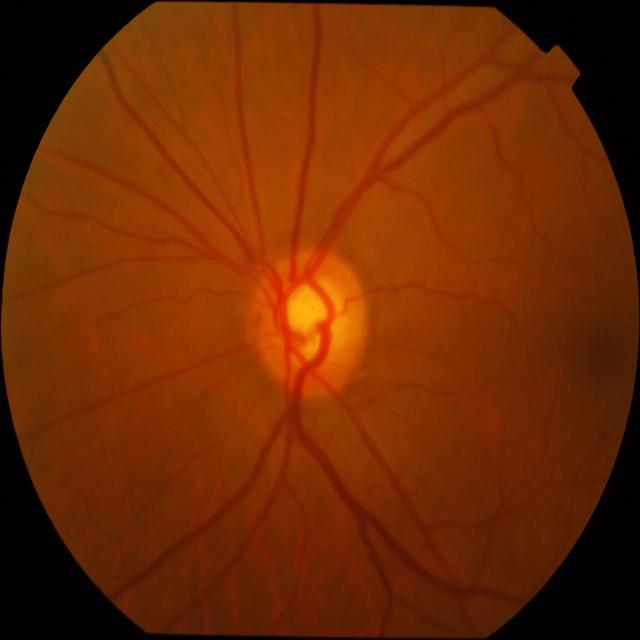OC: (282, 276, 349, 358)
OD: (246, 248, 370, 401)
